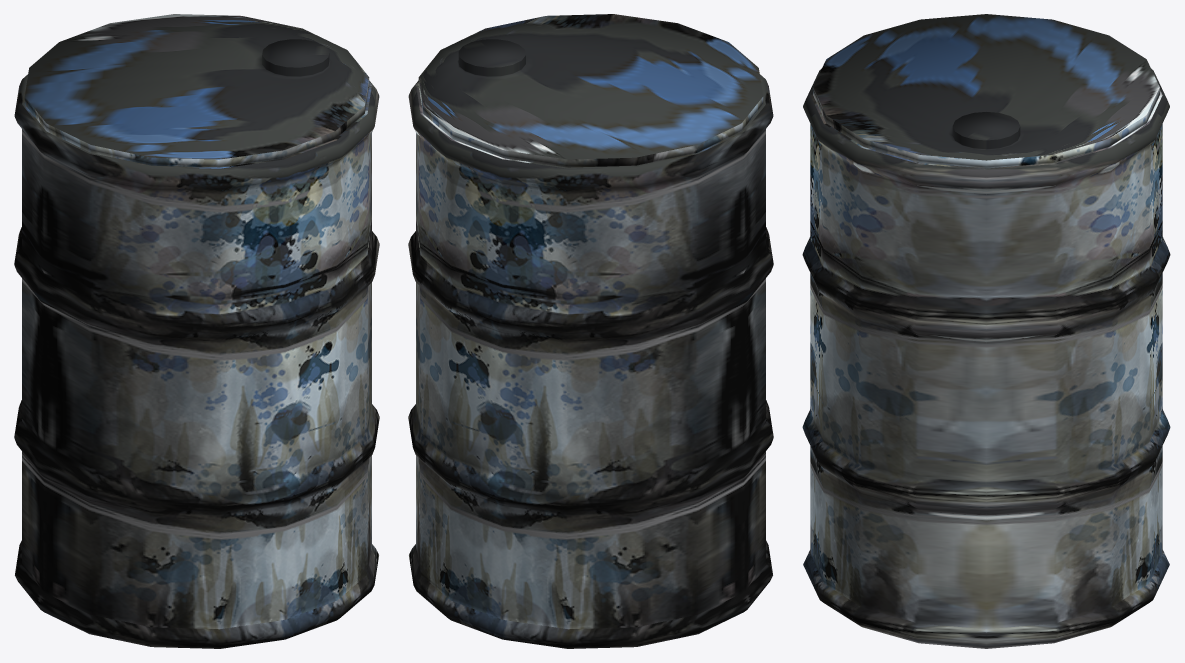
Rendered from tanque de oleo.fbx.
The picture shows the model from 3 angles, left to right: view 1: azimuth 30°, elevation 25°; view 2: azimuth 150°, elevation 25°; view 3: azimuth 270°, elevation 25°; orthographic projection.
Visible parts, largest first — view 1: tanque de oleo, tampa tanque de oleo; view 2: tanque de oleo, tampa tanque de oleo; view 3: tanque de oleo, tampa tanque de oleo.
Boxes of the visible parts, <box> form: tanque de oleo: <box>14,74,379,648</box>; tampa tanque de oleo: <box>24,14,369,167</box>; tanque de oleo: <box>408,74,773,648</box>; tampa tanque de oleo: <box>418,14,763,167</box>; tanque de oleo: <box>802,68,1170,648</box>; tampa tanque de oleo: <box>813,14,1159,168</box>.
Bounding box in the file's own units: 3.01 × 4.48 × 3.01.
